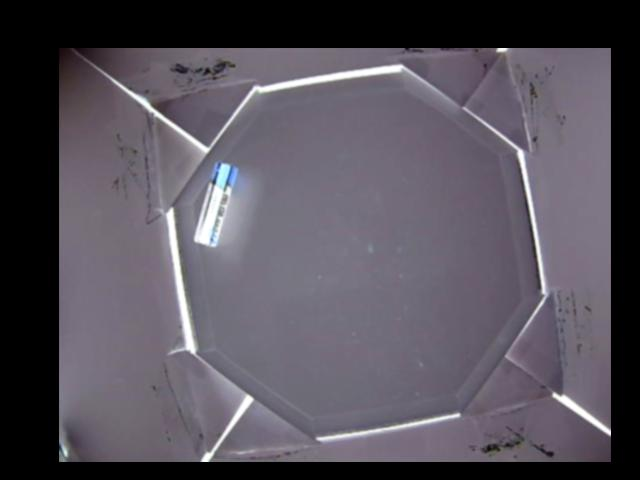Battery: (191, 161, 240, 244)
